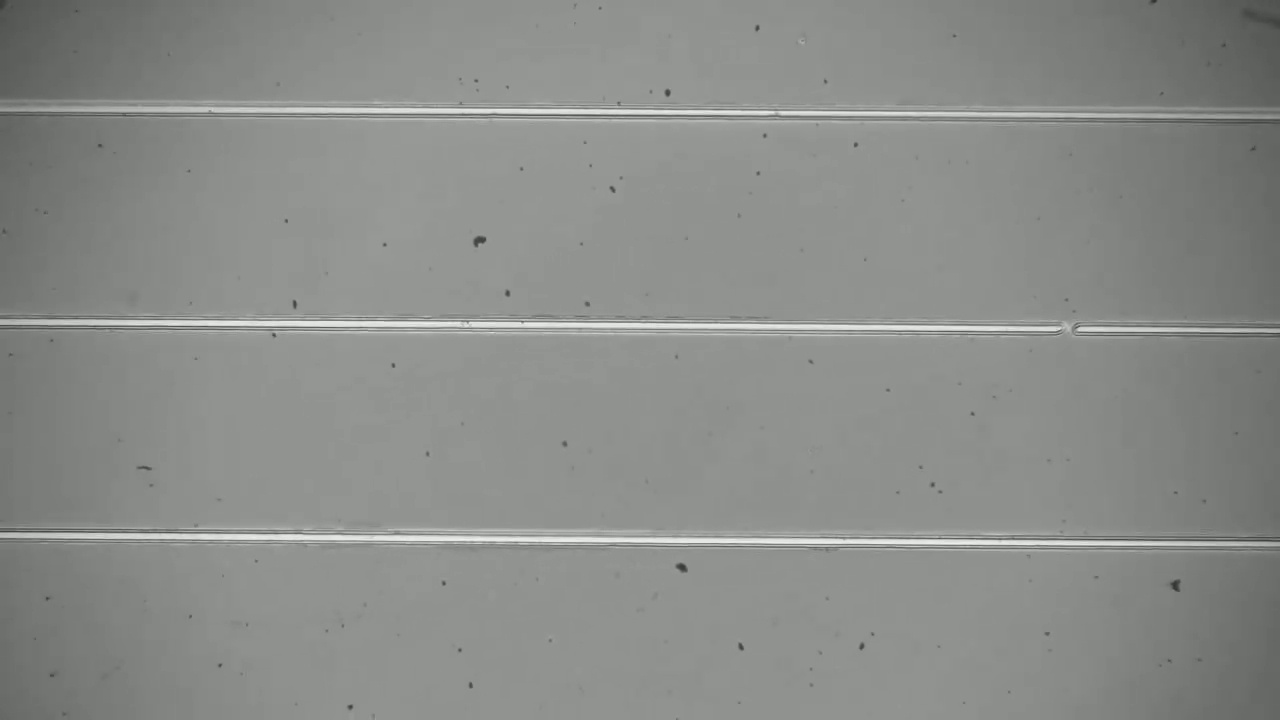open: (1044, 310, 1089, 351)
